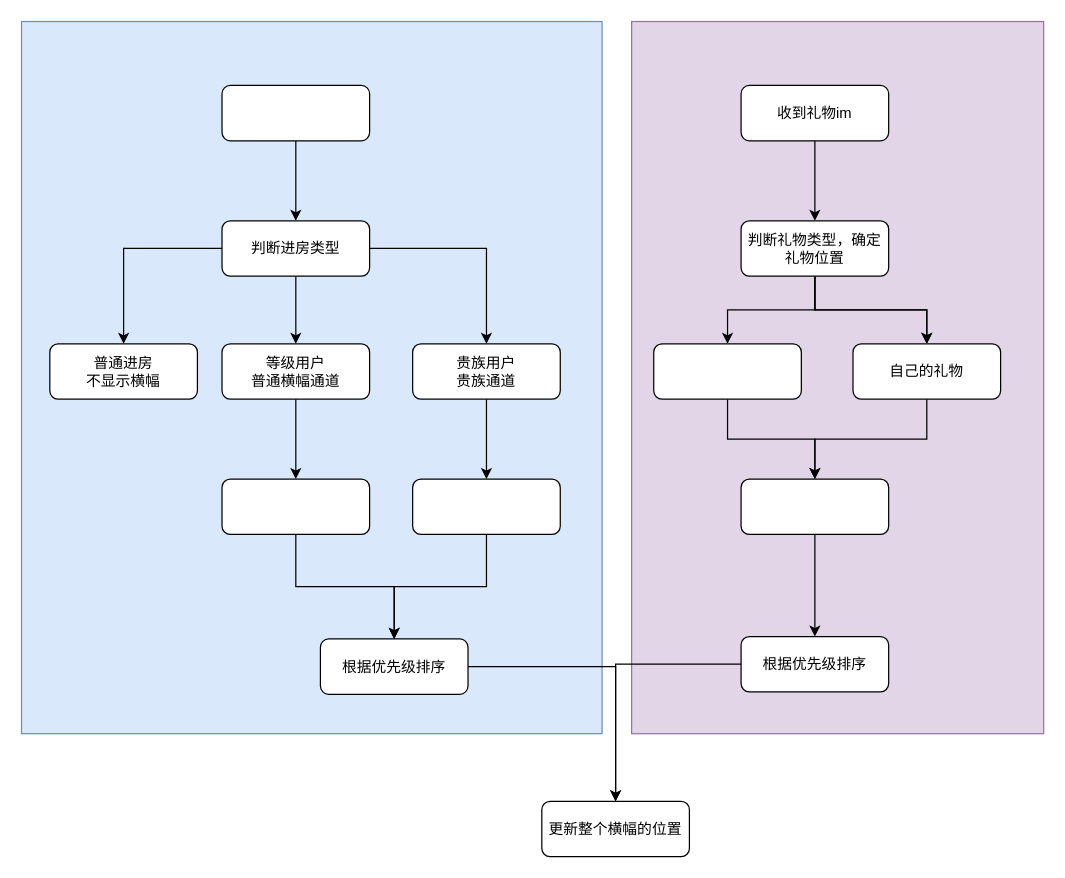
This 1065x878 diagram has some shape labels left out. The shapes that lost their labels are listed below. From the top down, each one's box as (x1, y1, x2, y2) in pixels, then its label:
(221, 84, 370, 141): 收到进房im
(653, 343, 801, 399): 相同礼物连击
(221, 478, 370, 534): 加入普通通道队列
(411, 478, 560, 534): 加入贵族通道队列
(740, 478, 889, 534): 加入礼物通道
